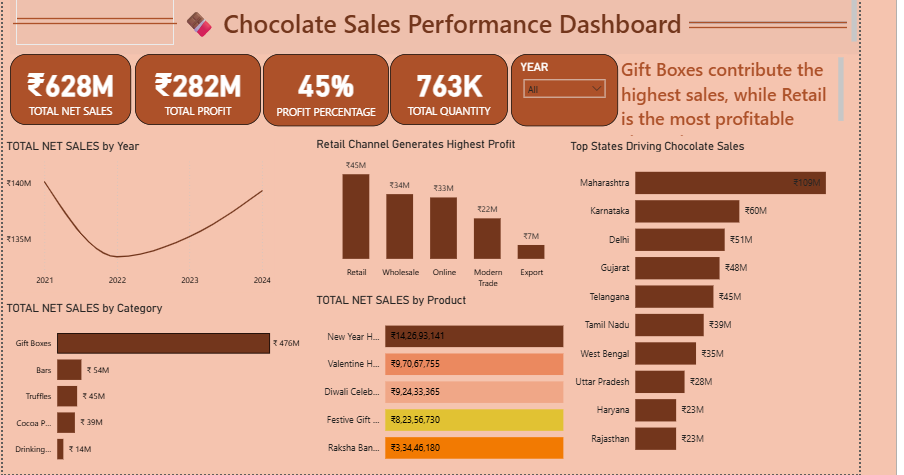

What the dashboard file says about the page in this screenshot:
{"tool":"powerbi","page":{"name":"DESHBOARD","canvas":[1280,720],"ordinal":7},"visuals":[{"type":"textbox","box":[10.5,0,1269.7,92.6],"z":0},{"type":"card","fields":{"Values":["FactSales.TOTAL NET SALES"]},"box":[10.5,92.6,180.7,106.1],"z":1000},{"type":"shape","box":[1024.7,6,236,79.2],"z":2000},{"type":"shape","box":[1024.7,13.4,236,79.2],"z":3000},{"type":"shape","box":[1024.7,6,236,79.2],"z":4000},{"type":"shape","box":[19.4,0,236,79.2],"z":5000},{"type":"shape","box":[14.9,7.5,245,79.2],"z":6000},{"type":"lineChart","title":"Total Net Sales Trend (Completed Years)","fields":{"Y":["FactSales.TOTAL NET SALES"],"Category":["DimDate.Date.Variation.Date Hierarchy.Year"]},"box":[0,219.6,404.8,228.5],"z":7000},{"type":"card","fields":{"Values":["FactSales.TOTAL PROFIT"]},"box":[197.2,92.6,188.2,106.1],"z":8000},{"type":"card","fields":{"Values":["FactSales.PROFIT PERCENTAGE"]},"box":[388.4,92.6,188.2,107.6],"z":9000},{"type":"barChart","fields":{"Category":["DimProduct.Category"],"Y":["FactSales.TOTAL NET SALES"]},"box":[0,461.6,448.1,258.4],"z":10000},{"type":"columnChart","title":"Retail Channel Generates Highest Profit","fields":{"Y":["FactSales.TOTAL PROFIT"],"Category":["DimChannel.Channel"]},"box":[463.1,216.6,379.4,233],"z":11000},{"type":"hundredPercentStackedBarChart","title":"TOTAL NET SALES by Product","fields":{"Category":["DimProduct.ProductName"],"Y":["FactSales.TOTAL NET SALES"]},"box":[463.1,449.6,379.4,270.4],"z":12000},{"type":"card","fields":{"Values":["FactSales.TOTAL QUANTITY"]},"box":[578.1,92.6,176.3,106.1],"z":13000},{"type":"textbox","box":[918.7,92.6,342.1,127],"z":14000},{"type":"clusteredBarChart","title":"Top States Driving Chocolate Sales","fields":{"Category":["DimGeography.State"],"Y":["FactSales.TOTAL NET SALES"]},"box":[842.5,219.6,437.7,487],"z":15000},{"type":"slicer","title":"YEAR","fields":{"Values":["DimDate.Date.Variation.Date Hierarchy.Year"]},"box":[758.8,92.6,159.8,107.6],"z":16000}]}

Visuals, with their boxes on the page's 1280x720 design canvas (x1, y1, x2, y2). These are canvas units, not pixel positions in the 904x475 screenshot, which may show the page scaled, cropped or inside an application window:
textbox: {"x1": 10, "y1": 0, "x2": 1280, "y2": 93}
card - FactSales.TOTAL NET SALES: {"x1": 10, "y1": 93, "x2": 191, "y2": 199}
shape: {"x1": 1025, "y1": 6, "x2": 1261, "y2": 85}
shape: {"x1": 1025, "y1": 13, "x2": 1261, "y2": 93}
shape: {"x1": 1025, "y1": 6, "x2": 1261, "y2": 85}
shape: {"x1": 19, "y1": 0, "x2": 255, "y2": 79}
shape: {"x1": 15, "y1": 8, "x2": 260, "y2": 87}
"Total Net Sales Trend (Completed Years)" lineChart: {"x1": 0, "y1": 220, "x2": 405, "y2": 448}
card - FactSales.TOTAL PROFIT: {"x1": 197, "y1": 93, "x2": 385, "y2": 199}
card - FactSales.PROFIT PERCENTAGE: {"x1": 388, "y1": 93, "x2": 577, "y2": 200}
barChart - DimProduct.Category x FactSales.TOTAL NET SALES: {"x1": 0, "y1": 462, "x2": 448, "y2": 720}
"Retail Channel Generates Highest Profit" columnChart: {"x1": 463, "y1": 217, "x2": 842, "y2": 450}
"TOTAL NET SALES by Product" hundredPercentStackedBarChart: {"x1": 463, "y1": 450, "x2": 842, "y2": 720}
card - FactSales.TOTAL QUANTITY: {"x1": 578, "y1": 93, "x2": 754, "y2": 199}
textbox: {"x1": 919, "y1": 93, "x2": 1261, "y2": 220}
"Top States Driving Chocolate Sales" clusteredBarChart: {"x1": 842, "y1": 220, "x2": 1280, "y2": 707}
"YEAR" slicer: {"x1": 759, "y1": 93, "x2": 919, "y2": 200}
